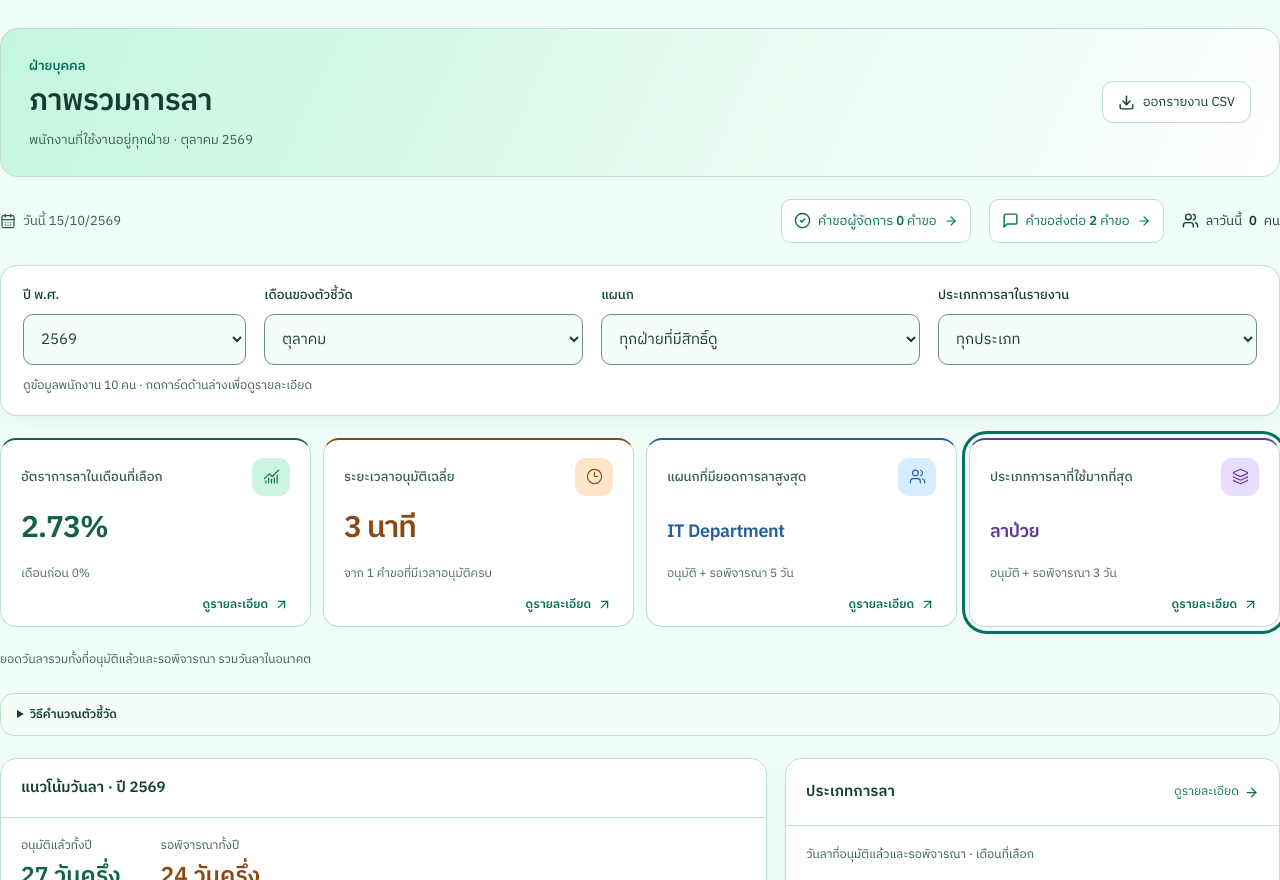
Test: KPI ประเภทการลาที่ใช้มากที่สุด opens a closable dialog and restores focus and filters
This screenshot has width=1280, height=880.
Click the button that starts with "ประเภทการลาที่ใช้มากที่สุด": (1124, 532) [969,438,1279,627]
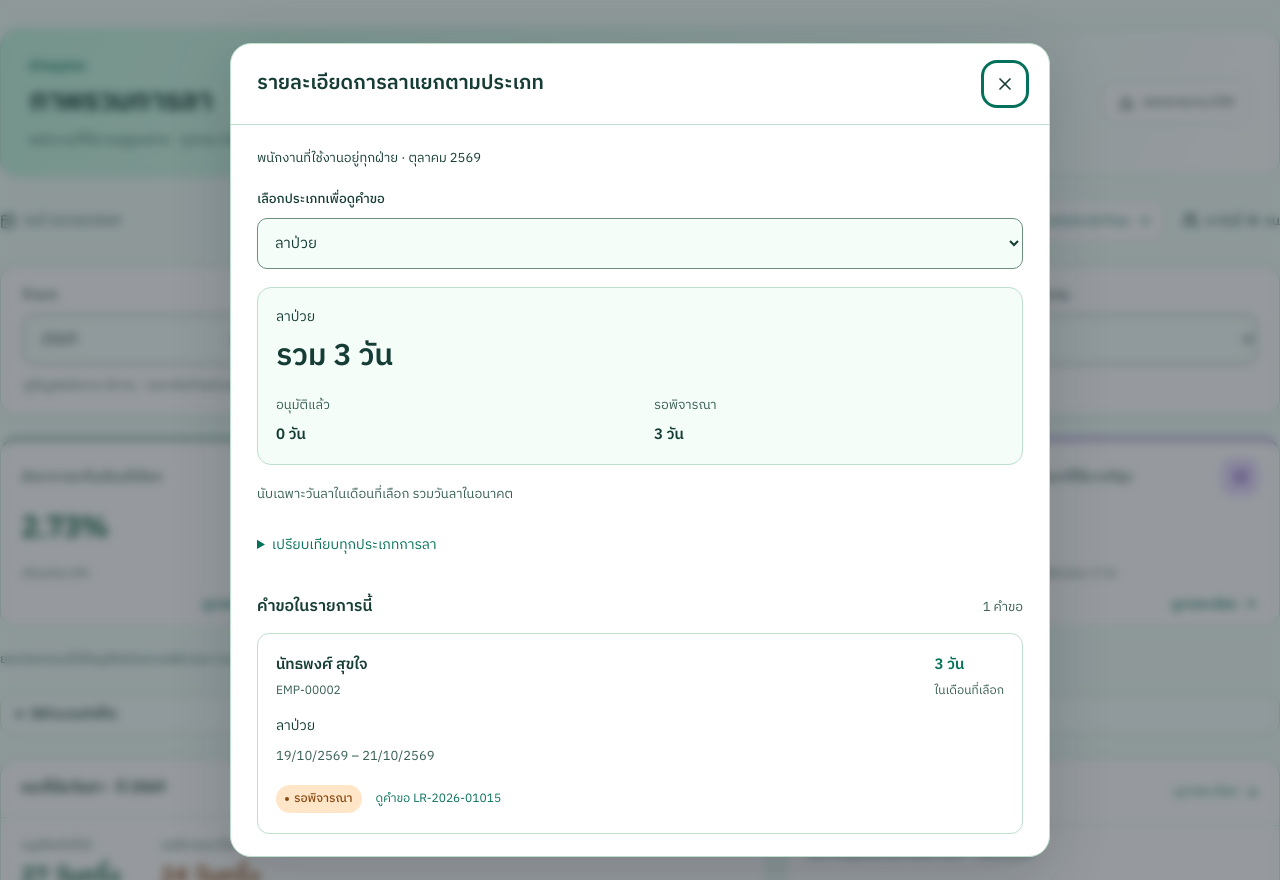
Expected: the dialog "รายละเอียดการลาแยกตามประเภท" is shown, [230,43,1050,857]
Click the button named "ปิด": (1005, 84) [987,66,1023,102]
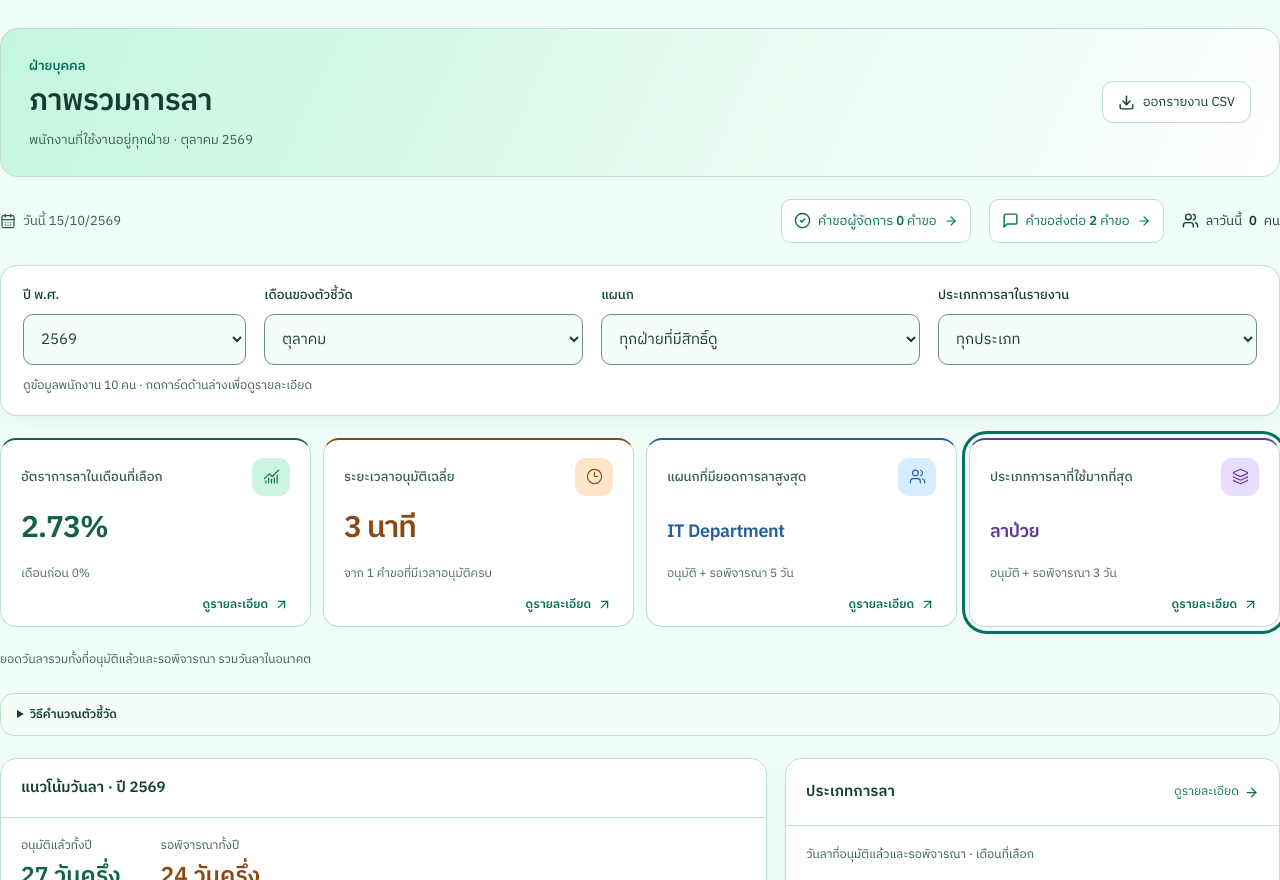
Expected: the dropdown labelled "เดือนของตัวชี้วัด" shows "ตุลาคม", [264,314,583,365]
Expected: the dialog is gone
